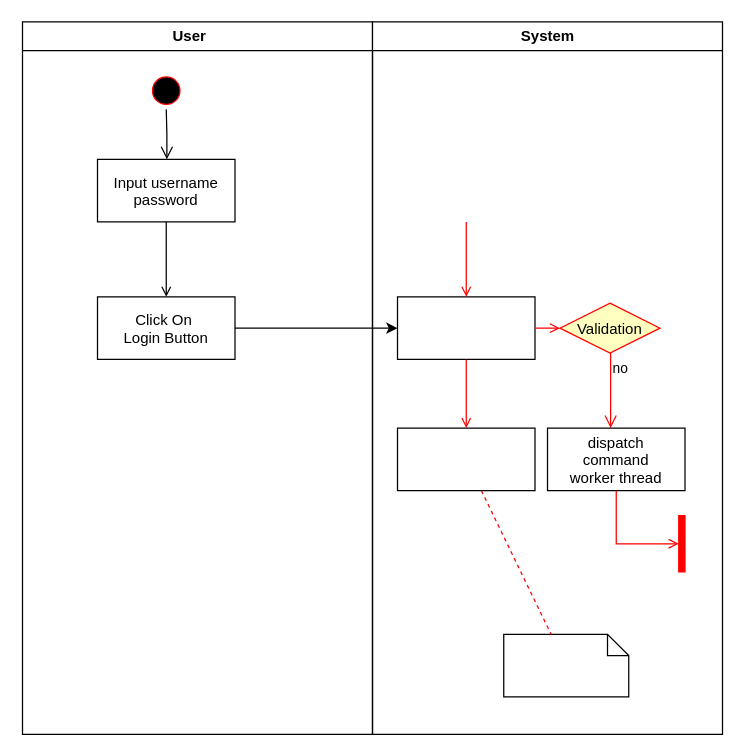
This 744x756 diagram has some shape labels left out. The centre of each missing label's shape, as x and y in pixels:
"command queue" belongs at pixel 465 459.
"critical section" belongs at pixel 565 665.
"Login Progress" belongs at pixel 465 327.
